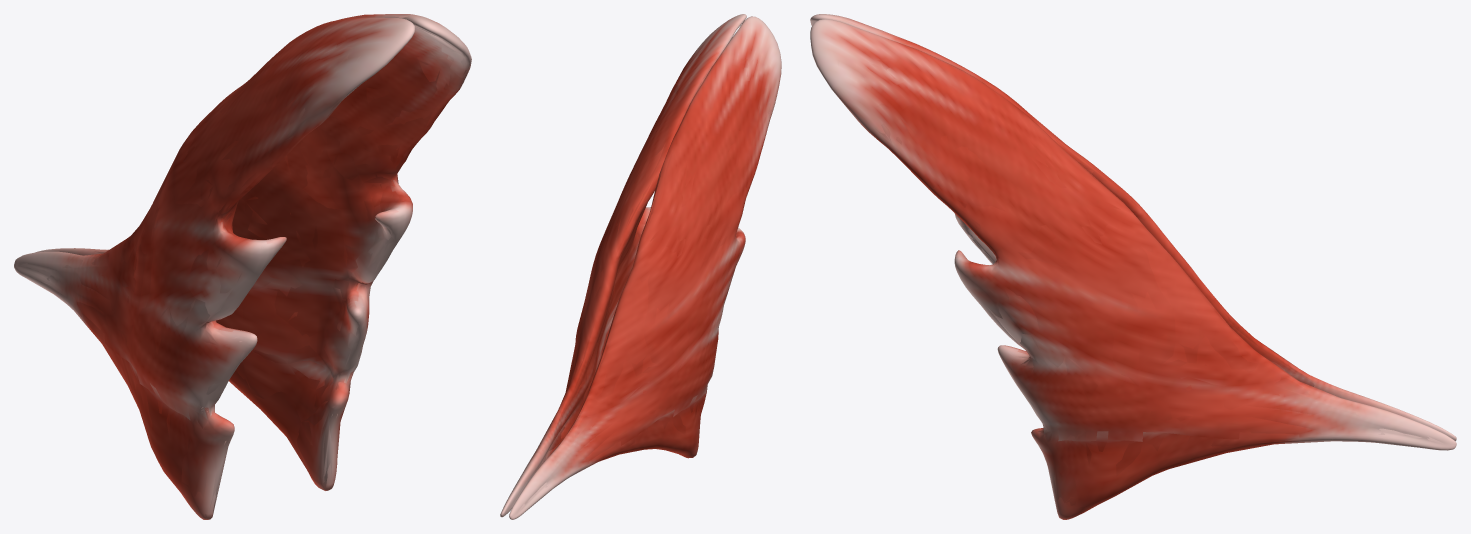
File: Splenius.fbx
3 renders of one model, left to right at view 1: azimuth 30°, elevation 25°; view 2: azimuth 150°, elevation 25°; view 3: azimuth 270°, elevation 25°, orthographic. The views are drawn at different scales.
Visible parts, largest first — view 1: Splenius, Splenius low; view 2: Splenius, Splenius low; view 3: Splenius, Splenius low.
Part boxes in pixels (x1=…): Splenius: x1=14, y1=14, x2=471, y2=519; Splenius low: x1=17, y1=16, x2=471, y2=518; Splenius: x1=500, y1=14, x2=781, y2=519; Splenius low: x1=514, y1=21, x2=772, y2=513; Splenius: x1=810, y1=14, x2=1456, y2=519; Splenius low: x1=813, y1=19, x2=1455, y2=517.
Bounding box in the file's own units: 18.06 × 53.09 × 65.02.
1 material, 1 textured.
